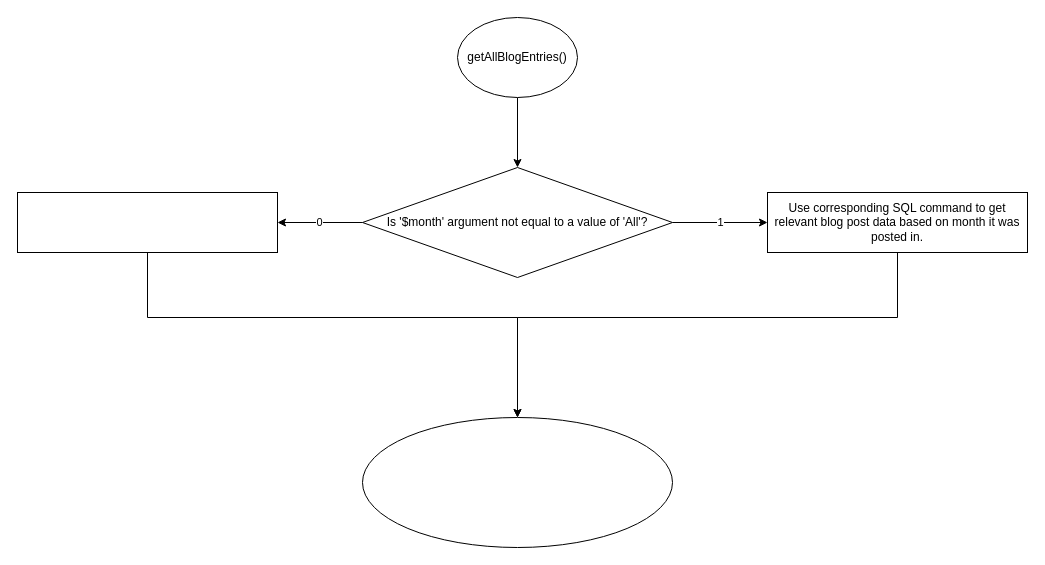
This 1045x565 diagram has some shape labels left out. Here are the shapes that lost their labels. From the top down, the box of each, then its label:
(16, 192, 278, 252): Use corresponding SQL command to get all blog post data.
(362, 416, 672, 548): Call showAllBlogEntries() method, passing in the record data as the argument.
